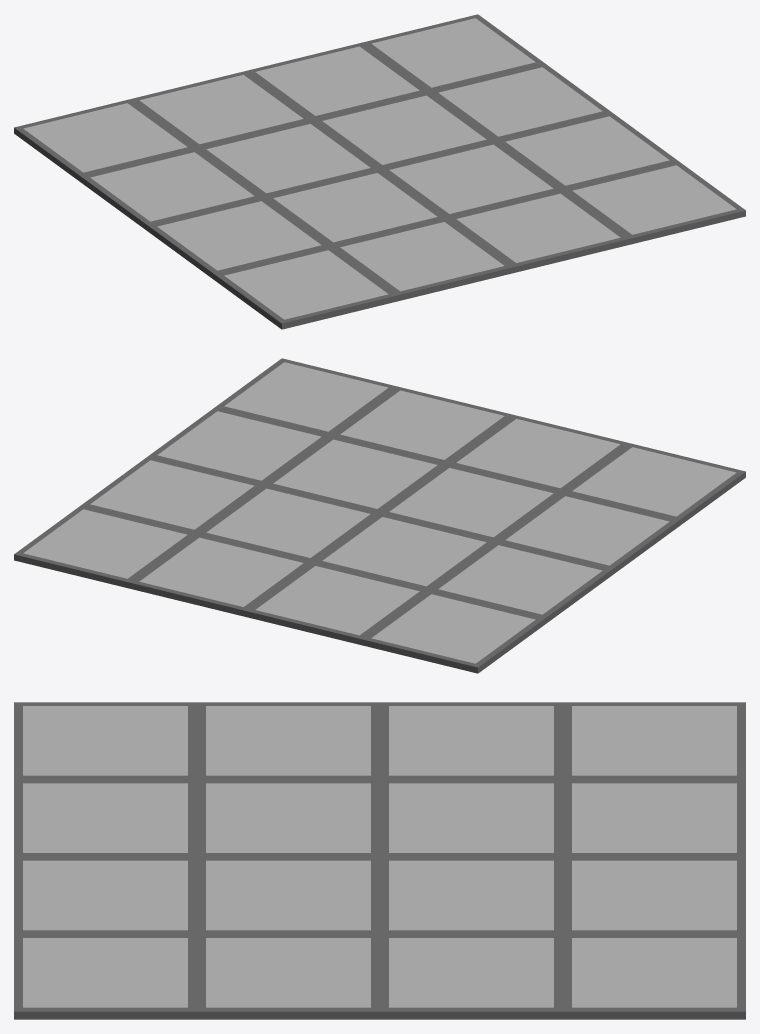
The model's file is ceiling_01_L.glb.
3 renders of one model, top to bottom at view 1: azimuth 30°, elevation 25°; view 2: azimuth 150°, elevation 25°; view 3: azimuth 270°, elevation 25°, orthographic. The views are drawn at different scales.
Parts seen in each view (by area): view 1: Untitled; view 2: Untitled; view 3: Untitled.
Part boxes in pixels (<box>): Untitled: <box>14,14,745,329</box>; Untitled: <box>14,358,745,673</box>; Untitled: <box>14,702,745,1019</box>.
Size of the model in its own units: 2.4 by 0.03 by 2.4.
1 material, 1 textured.
